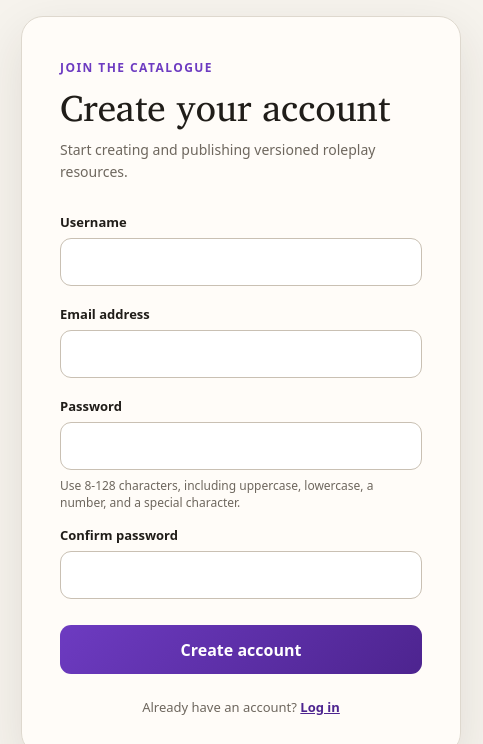
Test: validates matching strong passwords before registration
In the field labelled "Username": (241, 262) [60,238,422,286], type "alice"
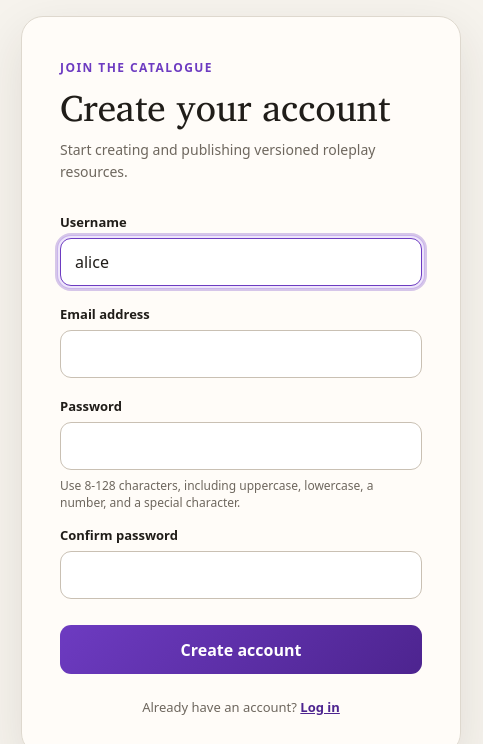
In the field labelled "Email address": (241, 354) [60,330,422,378], type "alice@example.com"
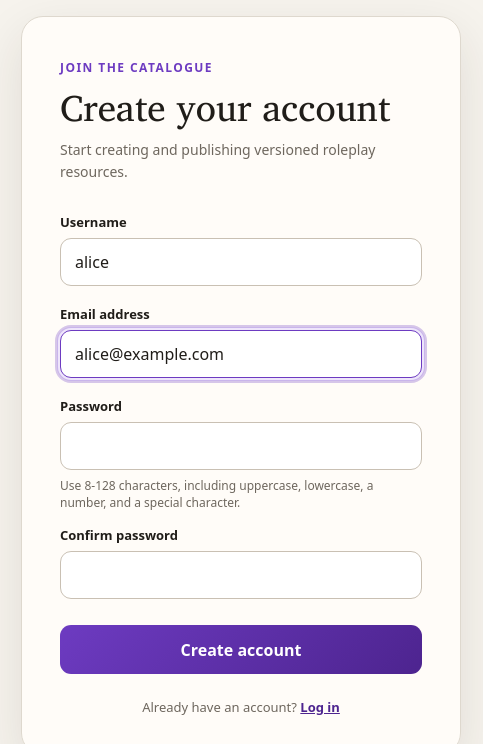
In the password field labelled "Password": (241, 446) [60,422,422,470], type "weak"
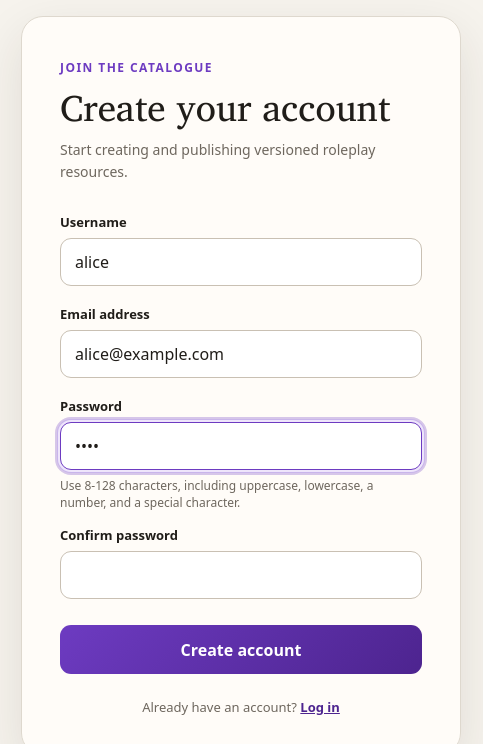
In the password field labelled "Confirm password": (241, 575) [60,551,422,599], type "different"
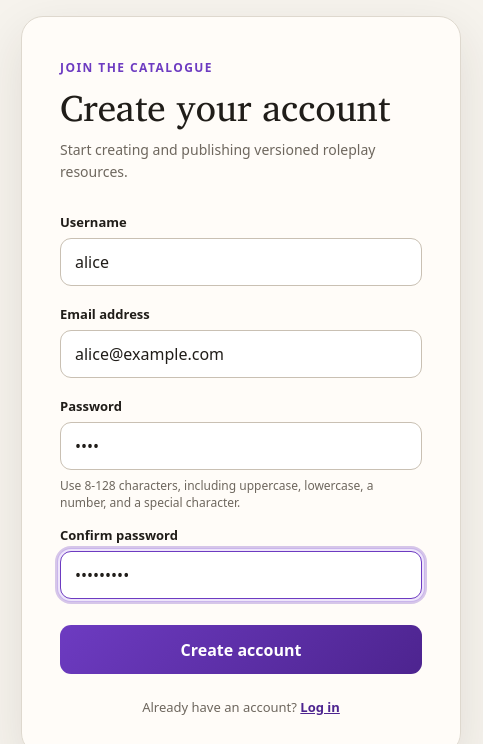
Click the button "Create account": (241, 650) [60,625,422,674]
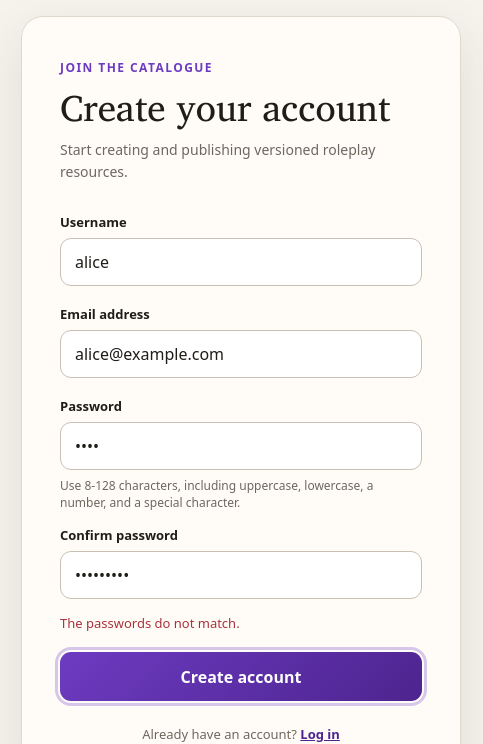
Expected: the message shows "match", [60,614,240,632]
